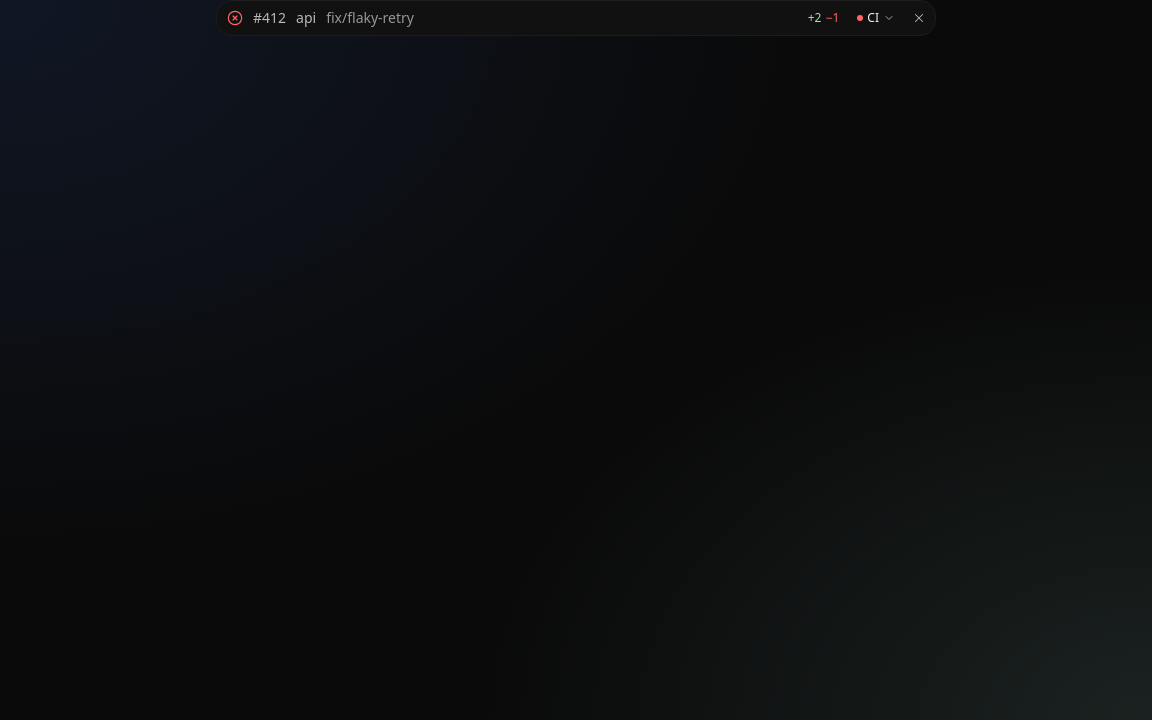
Test: PrStrip › offers the folder and terminal for the checkout's own repository and branch
This screenshot has width=1152, height=720.
Step 1. Click the button with test id "pr-row-repo" → [306, 18], box [292,6,320,30]
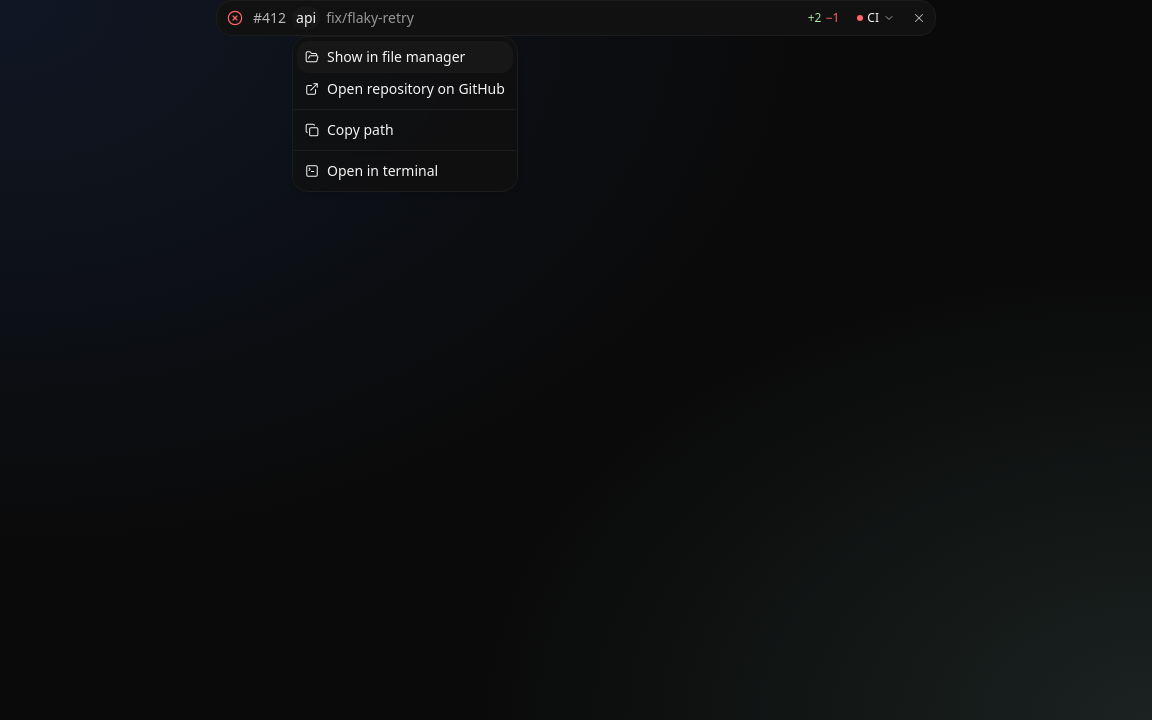
expect the menu with test id "pr-row-repo-menu" shows "Open repository on GitHub": met, box [327,79,505,98]
expect the menu with test id "pr-row-repo-menu" shows "Copy path": met, box [327,120,394,139]
expect the menu with test id "pr-row-repo-menu" shows "Open in terminal": met, box [327,161,438,180]
